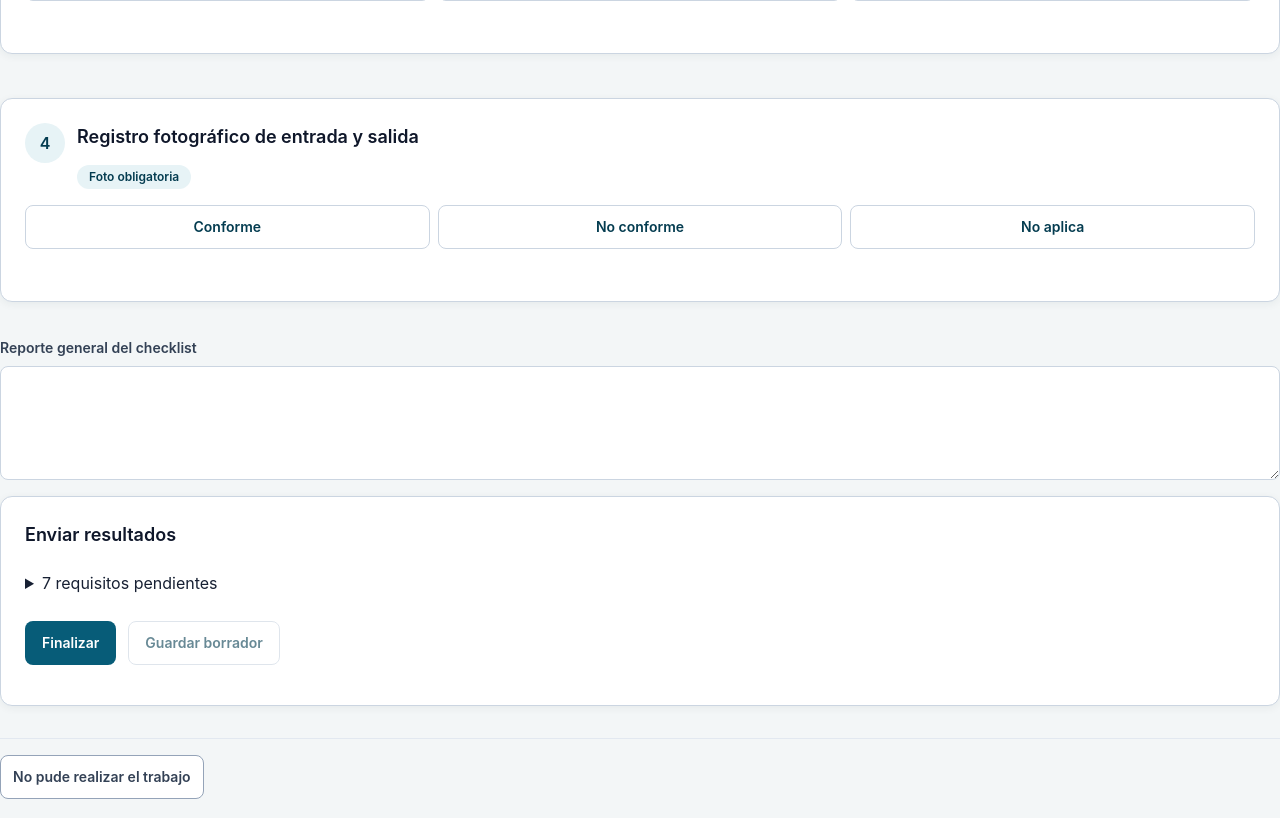
Test case: bloquea finalización sin resultados ni fotografías
(page scrolled)
Click the button "Finalizar" at (71, 643), box [25,621,116,665]
(page scrolled)
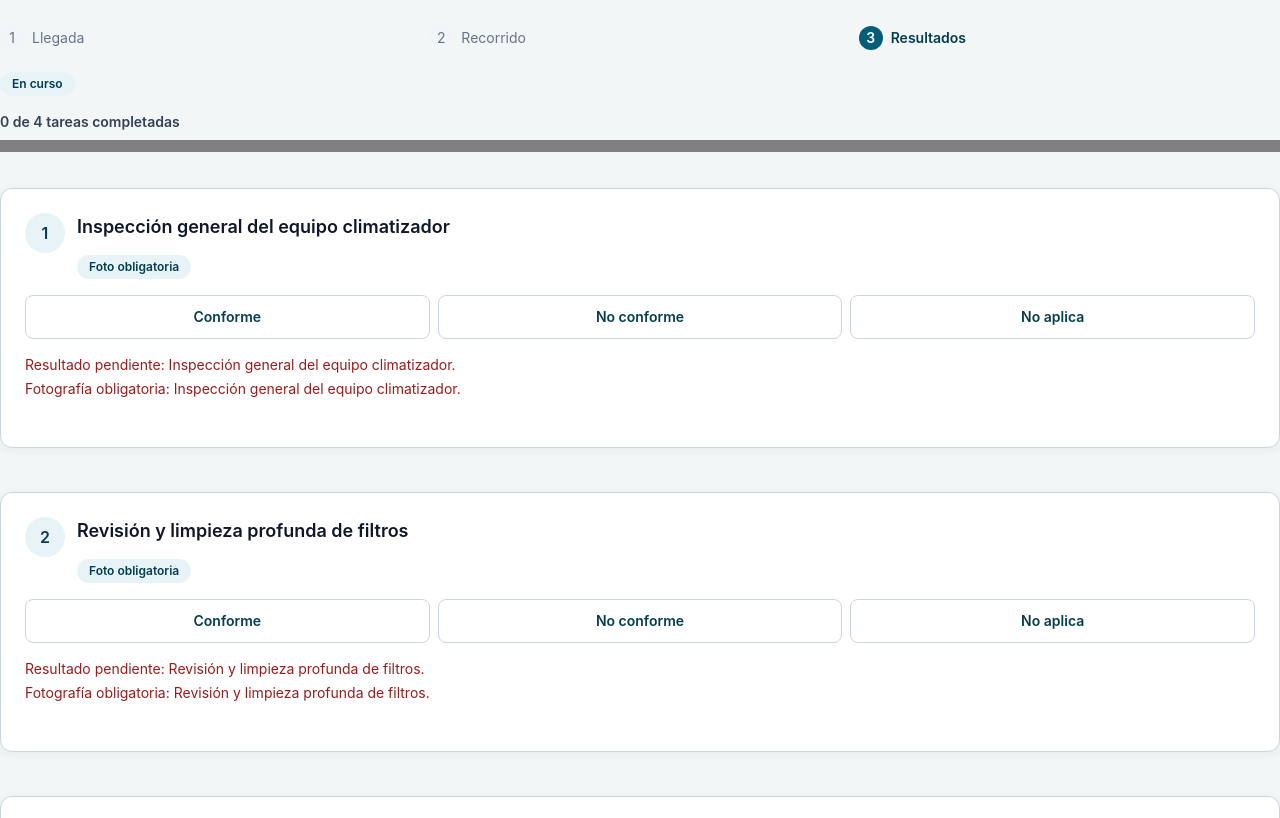
Check: the list item "Resultado pendiente:" is shown, box [25,356,456,373]
Check: the list item "Fotografía obligatoria:" is shown, box [25,380,461,397]
